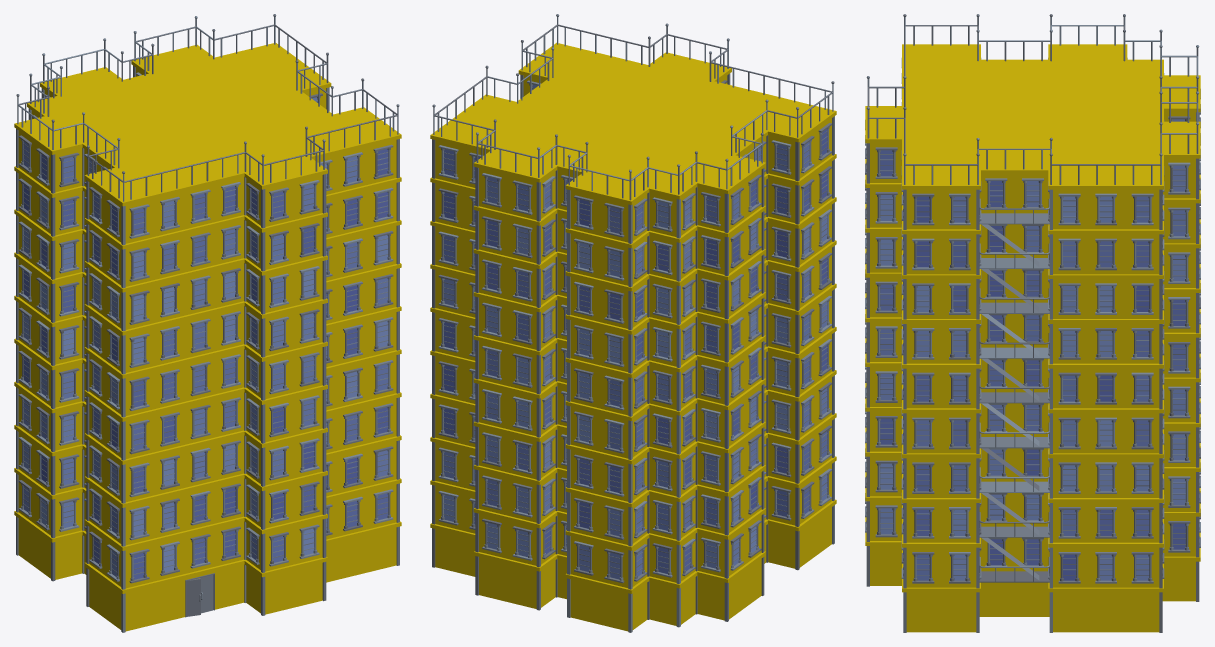
Rendered from Building Procedural.021.fbx.
3 views of the same model, side by side, from view 1: azimuth 30°, elevation 25°; view 2: azimuth 150°, elevation 25°; view 3: azimuth 270°, elevation 25° (orthographic). The views are drawn at different scales.
Visible parts, largest first — view 1: Building Procedural.021; view 2: Building Procedural.021; view 3: Building Procedural.021.
Part boxes in pixels (x1=…): Building Procedural.021: x1=14, y1=14, x2=401, y2=632; Building Procedural.021: x1=430, y1=14, x2=836, y2=632; Building Procedural.021: x1=865, y1=14, x2=1200, y2=632.
Bounding box in the file's own units: 2040 × 3210 × 2040.
